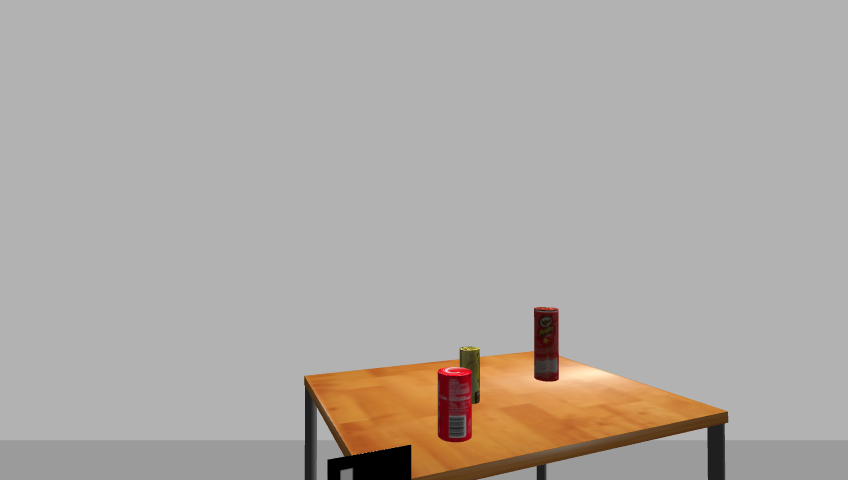aruco marker: (321, 444, 416, 480)
biscuits pack: (459, 346, 482, 406)
coke can: (435, 367, 474, 443)
dinner table: (293, 353, 737, 480)
pringles can: (532, 306, 561, 383)
